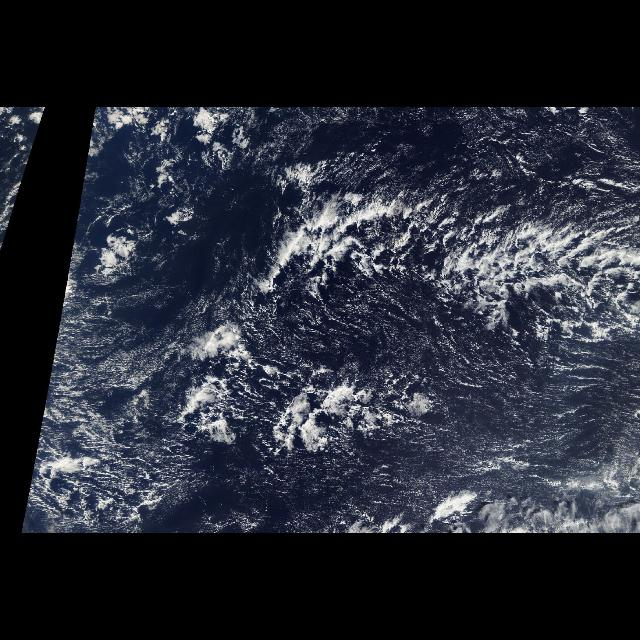Sugar: (356, 295, 640, 503), (67, 292, 181, 488)
